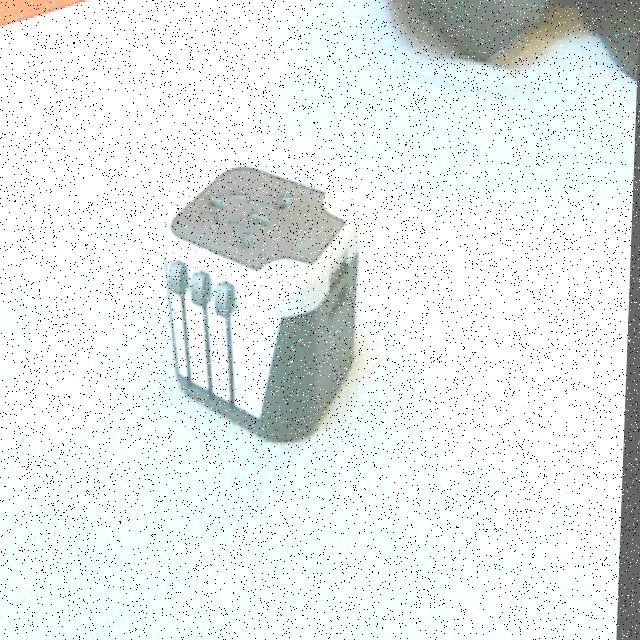adapter: (158, 160, 364, 442)
